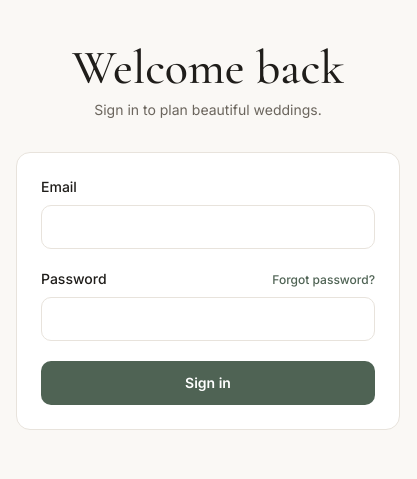
it: login › shows a clear message when the credentials are wrong
The width and height of the screenshot is (417, 479).
Type "ada@example.com" into the field labelled "Email".
click(208, 227); type("ada@example.com")  # box [41,205,375,249]
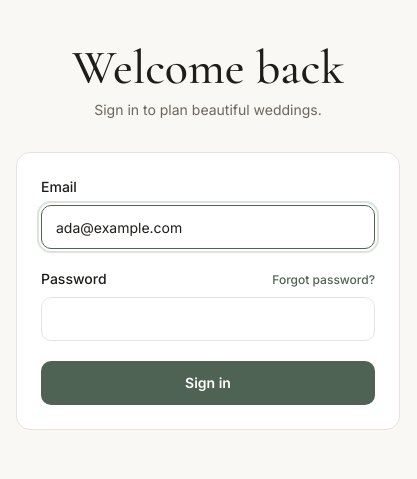
Type "wrong" into the password field labelled "Password".
click(208, 319); type("wrong")  # box [41,297,375,341]
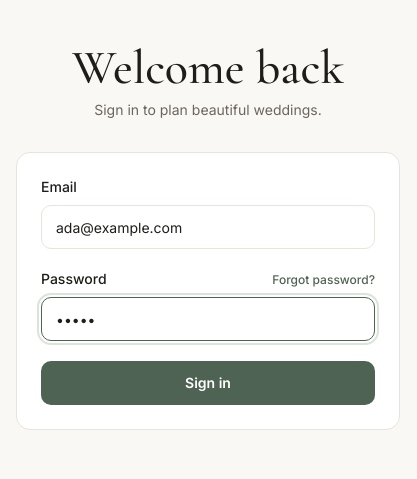
Click the button "Sign in".
click(208, 383)  # box [41,361,375,405]
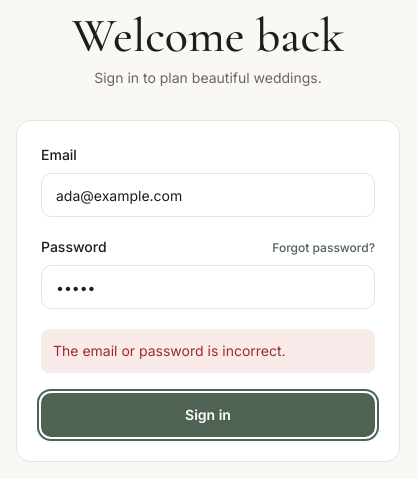
Expected: the message reads "The email or password is incorrect.", [53,342,286,359]
